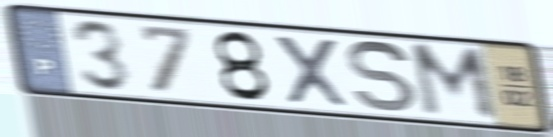3: (67, 17, 134, 93)
7: (138, 23, 198, 97)
8: (212, 29, 272, 103)
M: (405, 41, 501, 125)
S: (344, 37, 420, 116)
X: (269, 32, 355, 111)
